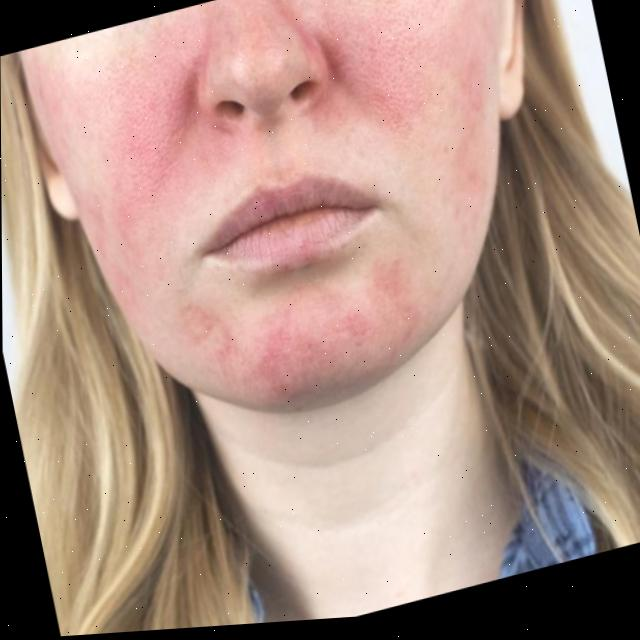Rosacea: (175, 247, 432, 417), (31, 43, 207, 228), (341, 0, 486, 142)
